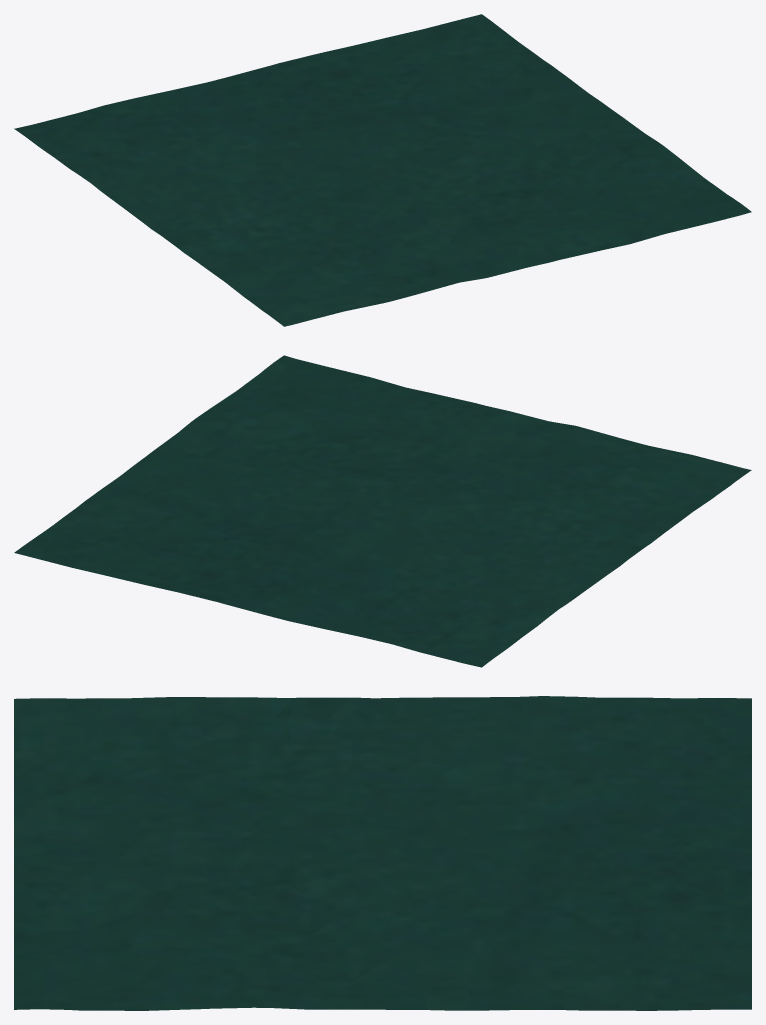
The picture shows the model from 3 angles, top to bottom: view 1: azimuth 30°, elevation 25°; view 2: azimuth 150°, elevation 25°; view 3: azimuth 270°, elevation 25°; orthographic projection. The views are drawn at different scales.
Size of the model in its own units: 52.22 by 0.4531 by 52.22.
2 materials, 2 textured.
